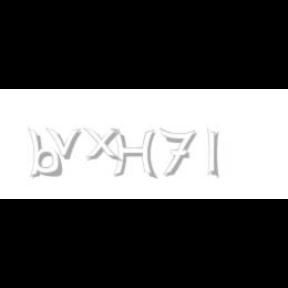7: (160, 128, 197, 178)
H: (111, 128, 157, 180)
b: (28, 128, 66, 178)
l: (207, 128, 223, 180)
v: (45, 128, 85, 160)
x: (83, 128, 125, 162)
